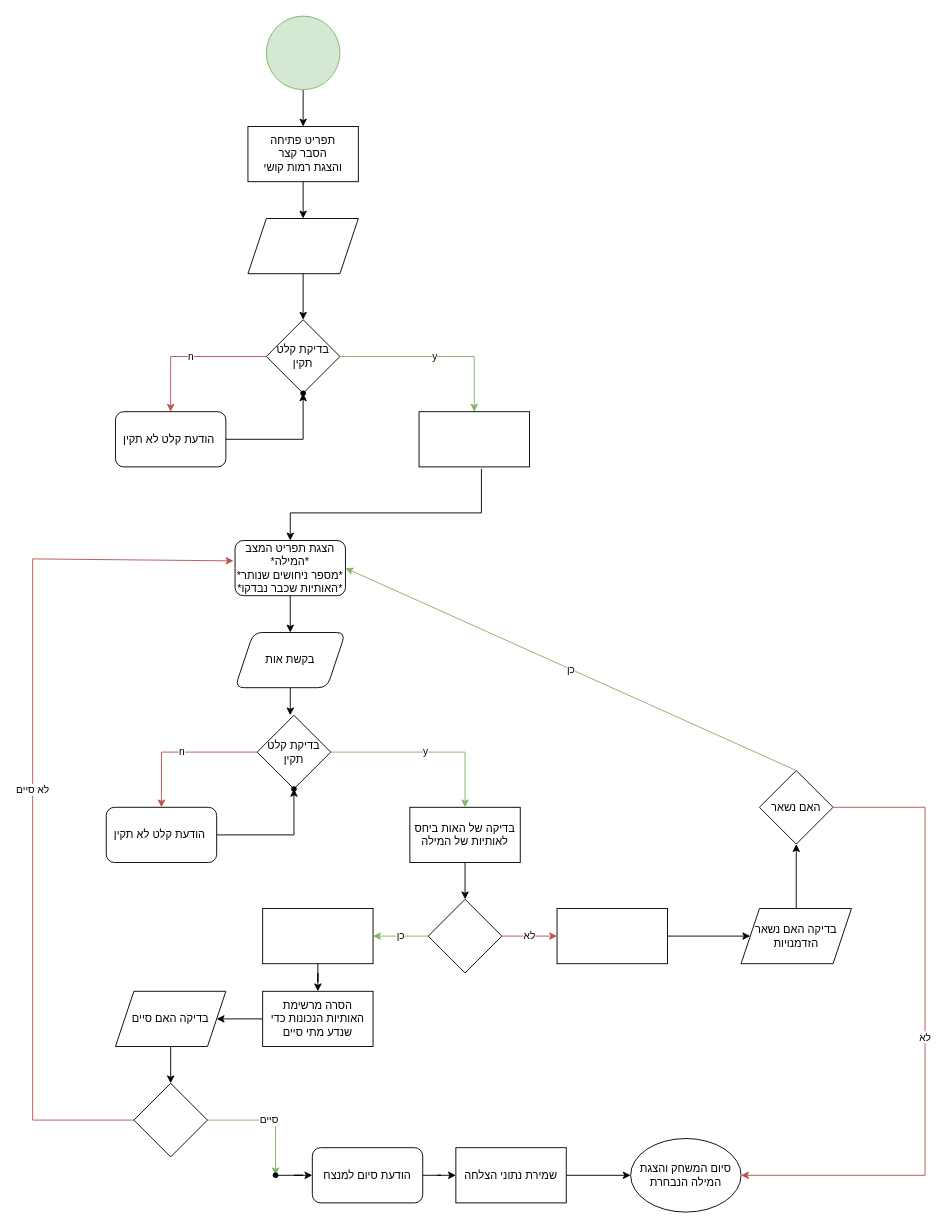
The diagram is 949 pixels wide and 1228 high, and some of its shapes have lost their labels. Here are the shapes that lost their labels. From the top down, the box of each, then its label:
(265, 15, 340, 90): התחלה
(247, 218, 358, 274): בקשת שם ורמת קושי
(418, 411, 529, 467): הגדרת המשחק לפי רמת הקושי והגדרה של המילה
(262, 908, 373, 964): עדכון המילה בתפריט המצב (יכול להיות יותר ממקום אחד)
(427, 898, 502, 973): האם האות נמצאת
(556, 908, 667, 964): הורדת הניחושים ב1 הוספת האות לרשימת האותיות שנבדקו
(133, 1082, 207, 1157): האם סיים
